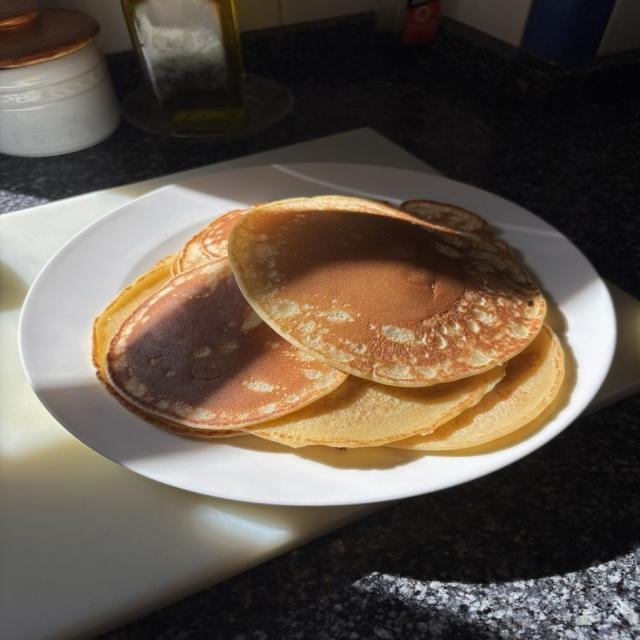pancake: (229, 197, 545, 386), (107, 261, 346, 429), (92, 256, 241, 437), (389, 325, 564, 450), (245, 367, 504, 447), (399, 200, 510, 251), (173, 210, 245, 274), (399, 200, 486, 234)
